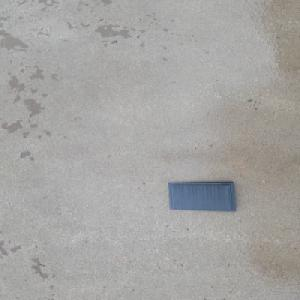PlasticPart: (167, 181, 237, 212)
